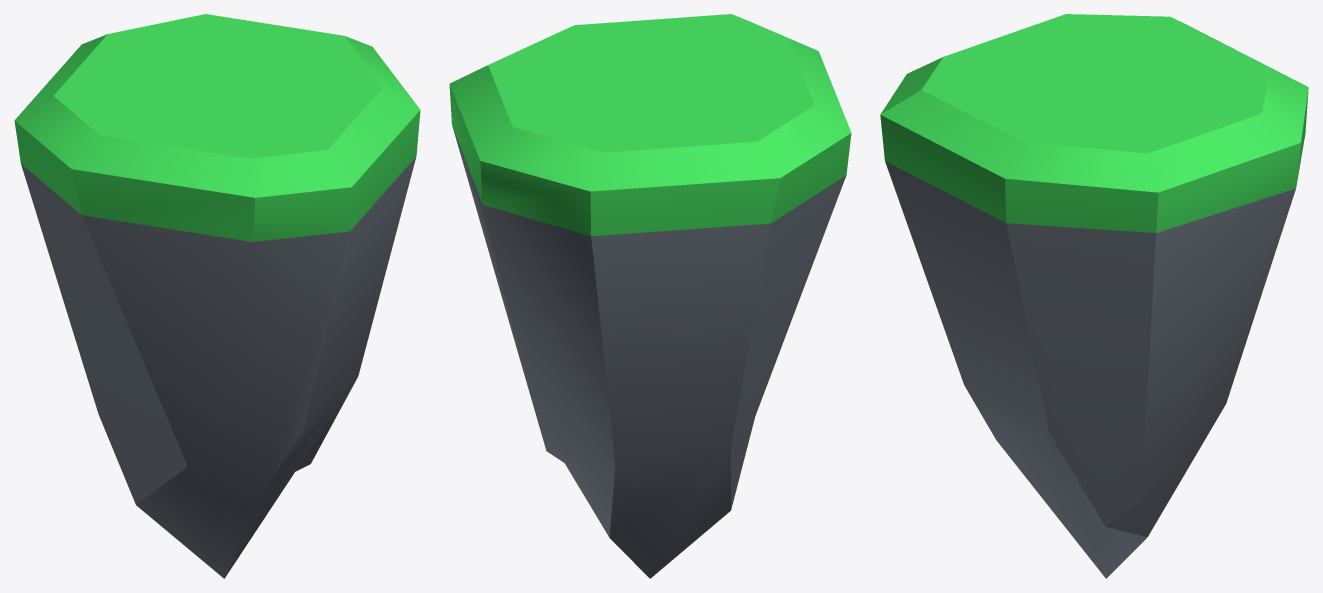
The model's file is island_06.fbx.
The picture shows the model from 3 angles, left to right: view 1: azimuth 30°, elevation 25°; view 2: azimuth 150°, elevation 25°; view 3: azimuth 270°, elevation 25°; orthographic projection.
Parts seen in each view (by area): view 1: Island.004; view 2: Island.004; view 3: Island.004.
Boxes of the visible parts, left/top/right/bottom form: Island.004: left=14, top=14, right=420, bottom=578; Island.004: left=449, top=14, right=851, bottom=578; Island.004: left=880, top=14, right=1308, bottom=578.
Bounding box in the file's own units: 366 × 492 × 386.
